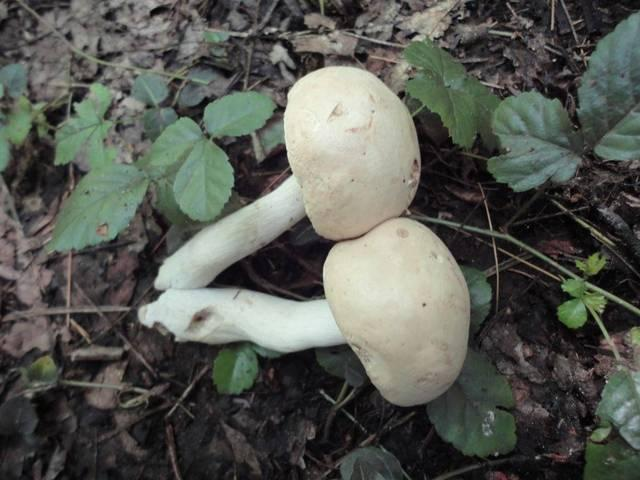edible_mushroom: (138, 63, 472, 406)
